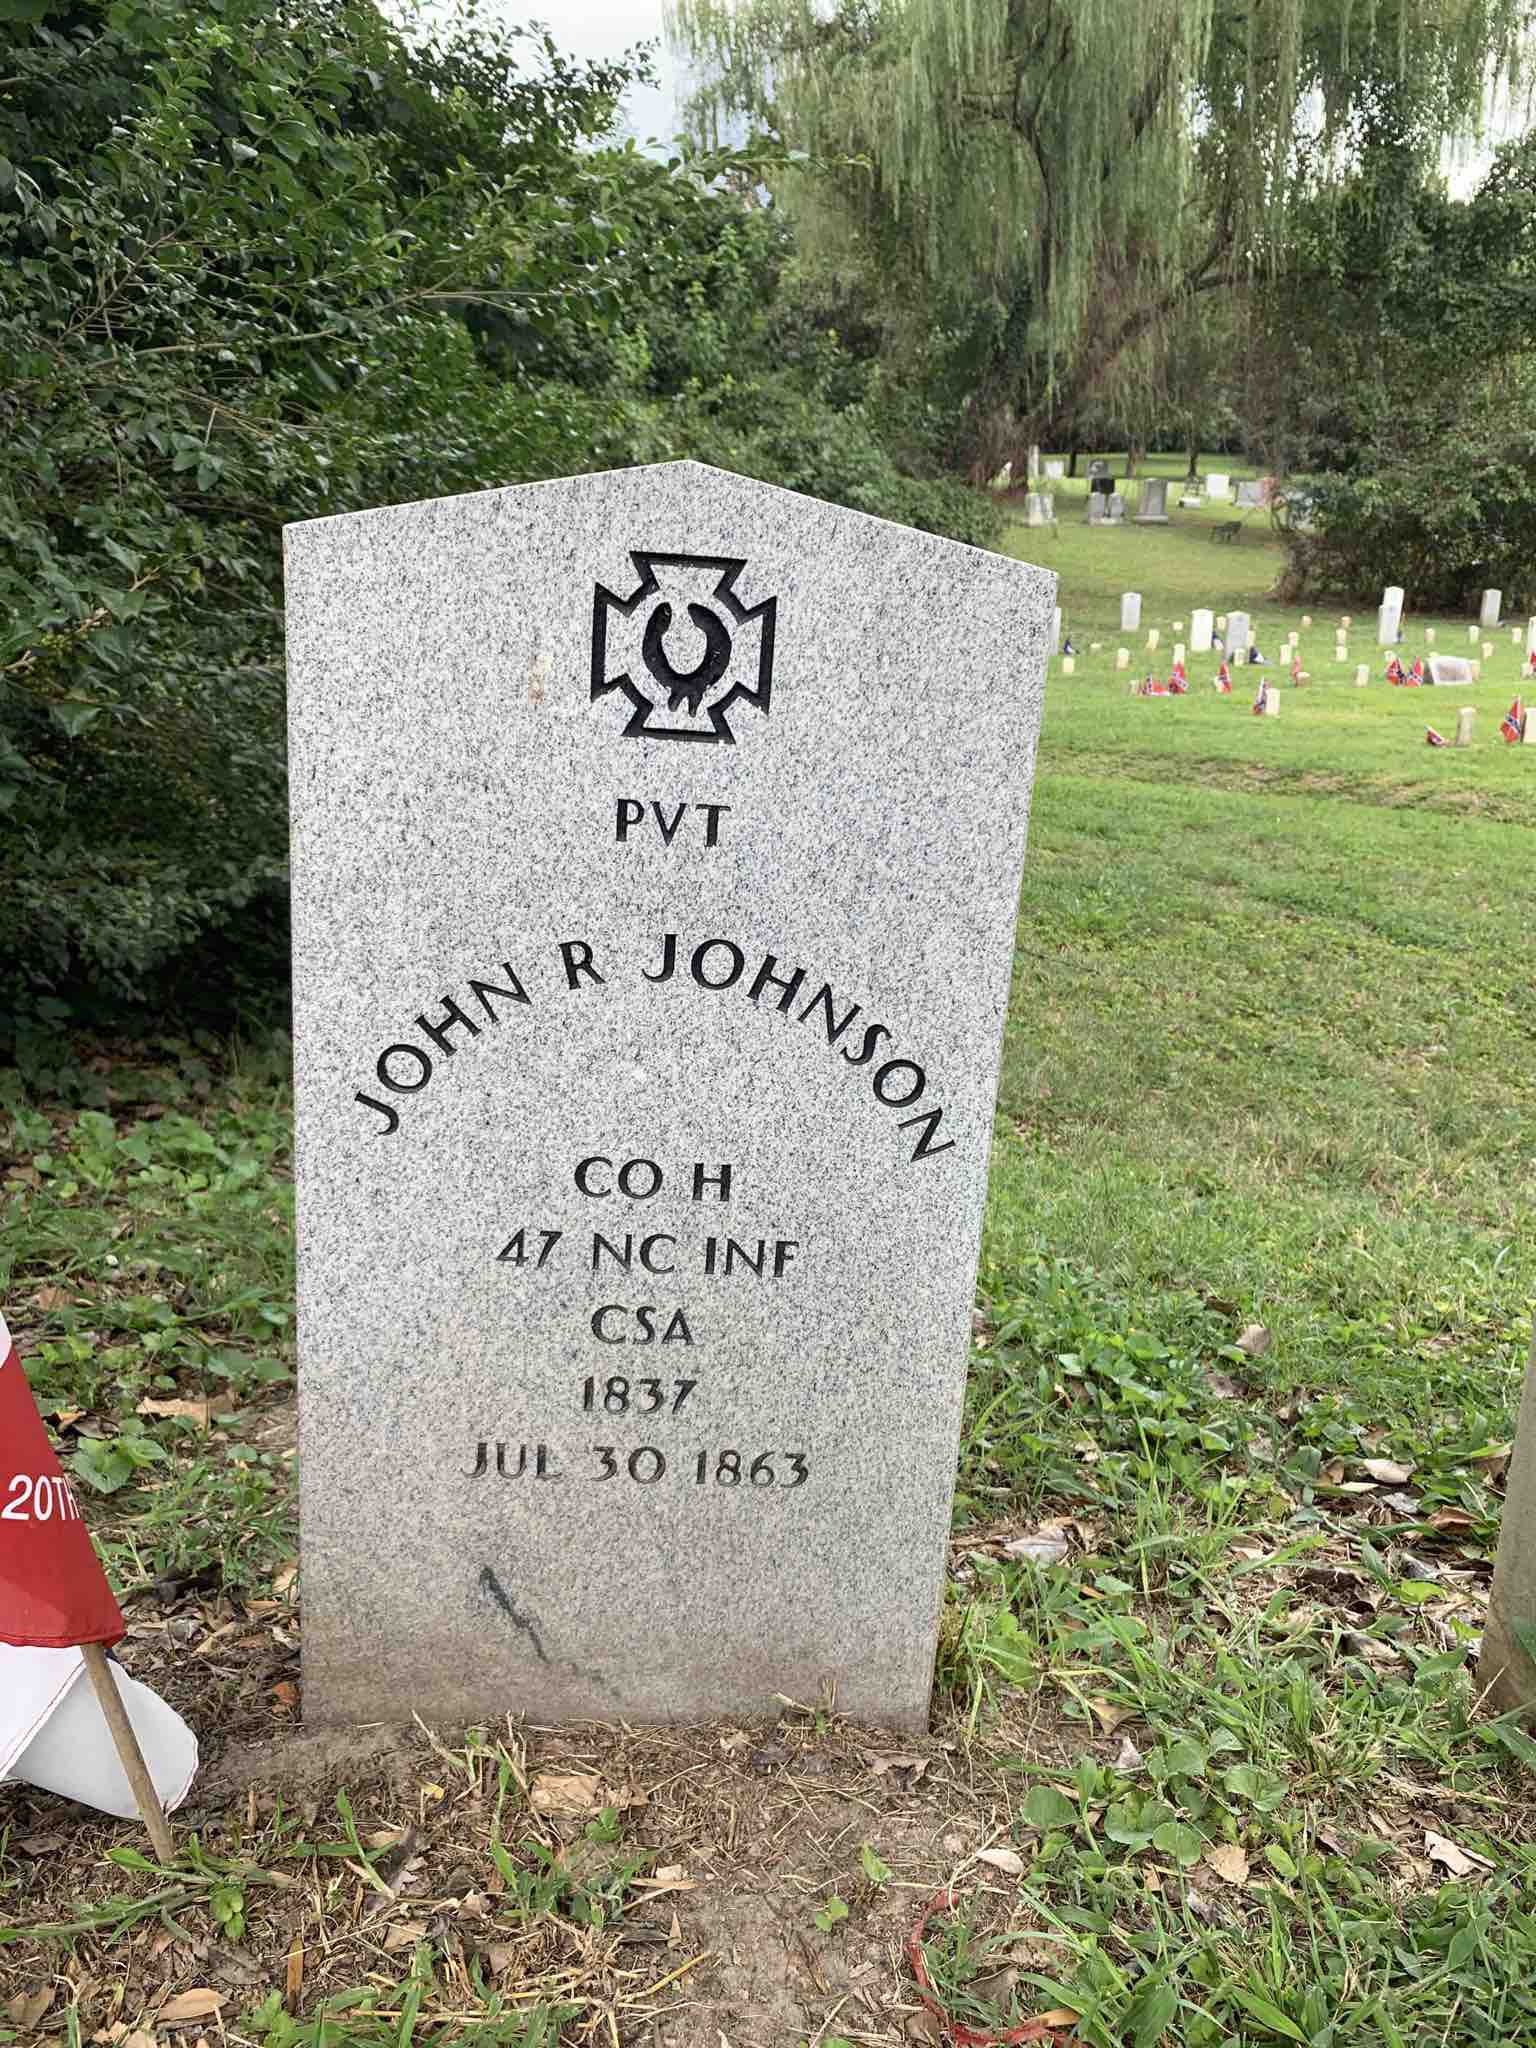military: (279, 456, 1057, 1717)
